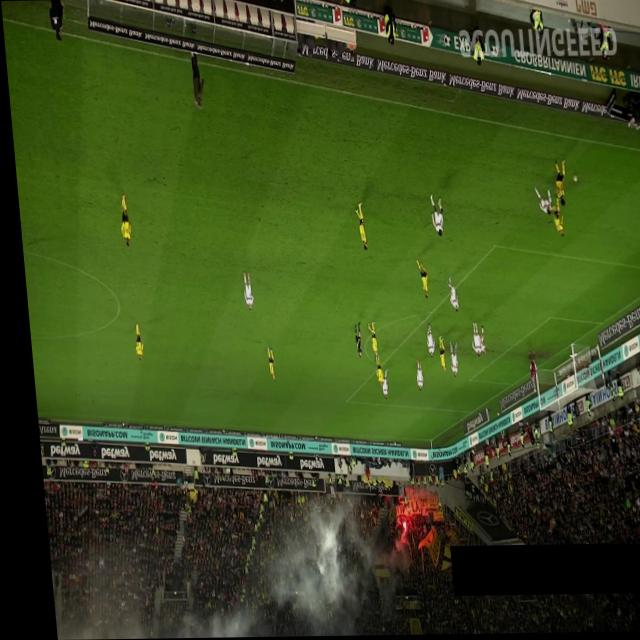goalkeeper: (520, 351, 530, 385)
player: (113, 193, 128, 246), (548, 159, 564, 207), (349, 202, 363, 251), (425, 194, 440, 238), (410, 257, 424, 299), (529, 187, 548, 217), (547, 197, 560, 239), (236, 271, 248, 310), (126, 323, 138, 361), (441, 276, 453, 313), (463, 322, 475, 358), (441, 342, 452, 378), (366, 353, 376, 388), (418, 324, 428, 359), (361, 322, 371, 356), (259, 346, 268, 380), (407, 359, 416, 392), (431, 336, 439, 373), (373, 368, 382, 400), (471, 326, 479, 356)
referee: (346, 323, 356, 358)
